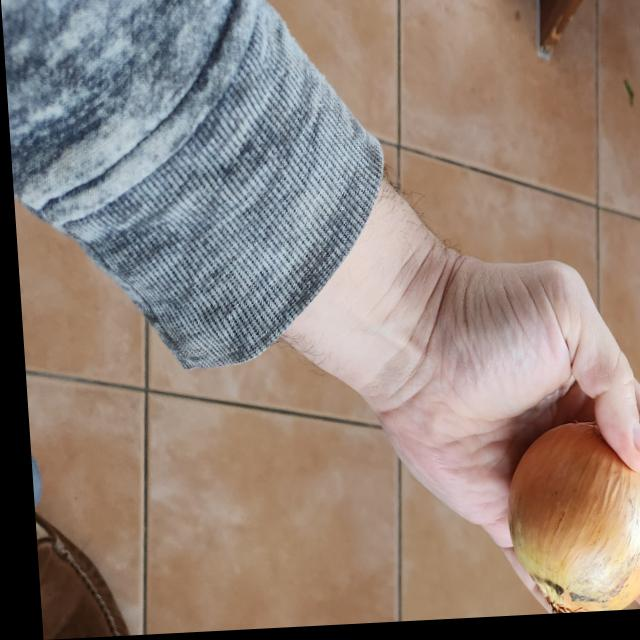brown onion: (496, 425, 640, 621)
